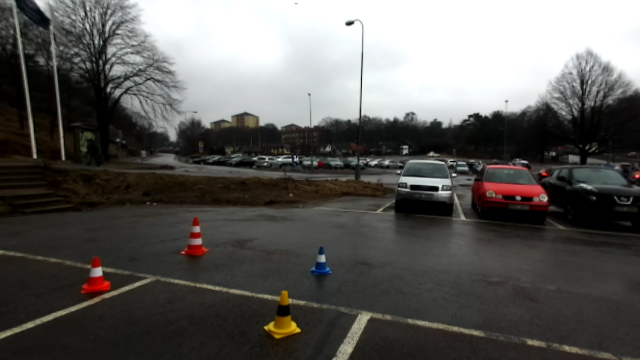blue: (309, 245, 330, 275)
orange: (80, 257, 110, 293)
orange2: (181, 218, 209, 258)
yellow: (265, 287, 302, 341)
